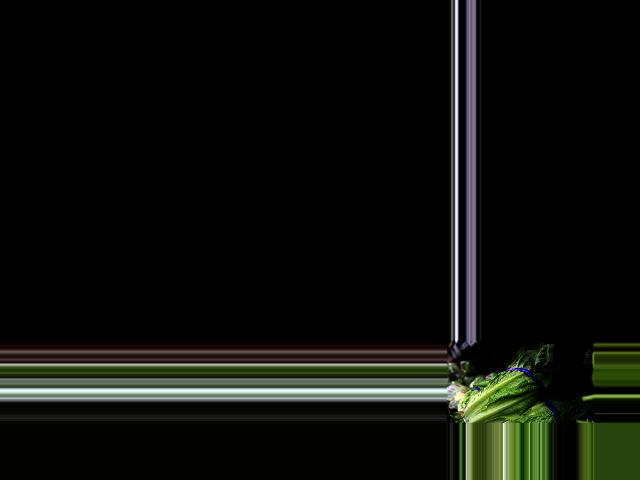lettuce: (468, 348, 560, 423)
